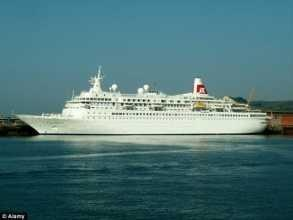youlun: (15, 71, 273, 136)
